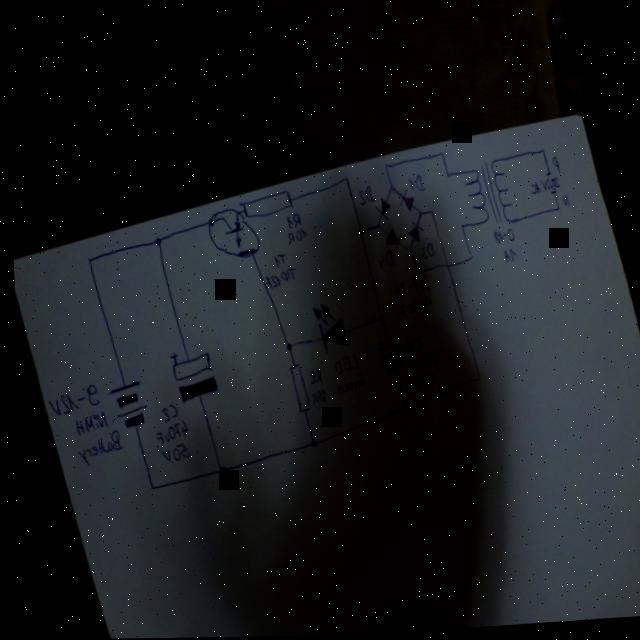capacitor: (163, 345, 216, 405), (373, 338, 400, 375)
crossover: (441, 261, 448, 269)
diode: (307, 300, 347, 356), (380, 225, 401, 252), (371, 196, 390, 221), (393, 189, 413, 212), (404, 221, 423, 245)
junction: (151, 235, 161, 246), (212, 463, 222, 474), (280, 340, 290, 351), (373, 313, 382, 323), (305, 437, 313, 447), (398, 401, 405, 412), (82, 255, 91, 263), (356, 225, 363, 235), (410, 268, 418, 276), (413, 208, 420, 217), (464, 253, 470, 262), (144, 482, 150, 491), (456, 222, 463, 229), (387, 183, 393, 191), (403, 245, 409, 253), (538, 148, 544, 155), (341, 176, 347, 183), (443, 171, 448, 179), (472, 374, 477, 382), (374, 222, 379, 230), (381, 162, 386, 169), (553, 206, 558, 213), (426, 209, 431, 215), (437, 151, 442, 157)
resistor: (236, 187, 293, 219), (283, 362, 308, 413)
source: (100, 377, 147, 430)
terminal: (542, 172, 551, 178), (547, 190, 556, 196)
text: (41, 381, 98, 416), (70, 427, 120, 466), (387, 273, 429, 300), (69, 409, 106, 436), (394, 293, 431, 319), (150, 419, 185, 445), (400, 348, 436, 373), (330, 371, 362, 396), (260, 266, 294, 288), (525, 176, 559, 195), (329, 353, 357, 376), (155, 442, 186, 462), (400, 334, 420, 356), (489, 226, 513, 244), (407, 372, 432, 389), (373, 250, 393, 270), (354, 184, 373, 205), (283, 226, 307, 242), (156, 402, 174, 423), (305, 386, 324, 405), (404, 173, 423, 192), (283, 211, 300, 230), (499, 247, 516, 264), (417, 243, 434, 260), (268, 252, 285, 269), (304, 366, 319, 385), (549, 156, 559, 175), (558, 194, 568, 208)
transformer: (460, 158, 517, 227)
transistor: (203, 206, 256, 261)
